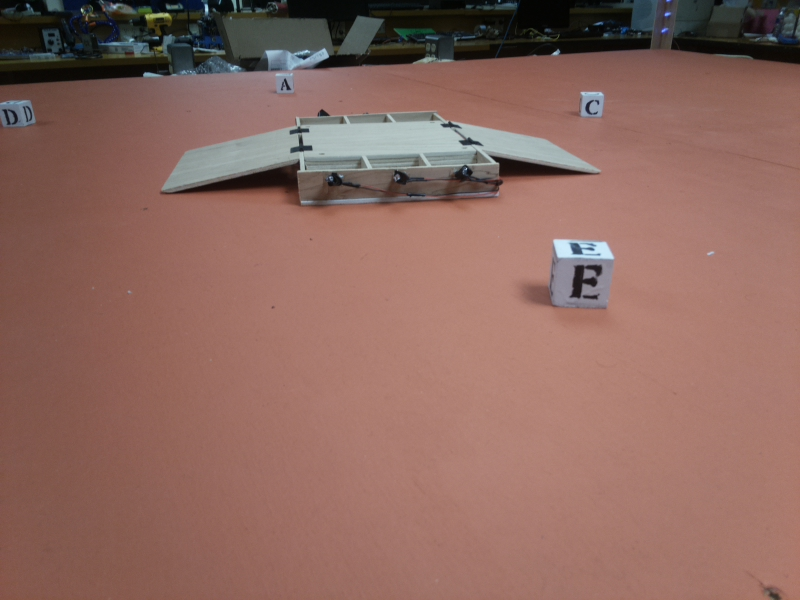blockA: (272, 70, 295, 95)
blockC: (579, 90, 606, 122)
blockD: (1, 96, 39, 127)
blockE: (550, 237, 616, 311)
corner: (647, 1, 677, 51)
side: (288, 151, 499, 210)
slope: (161, 123, 297, 197), (456, 123, 604, 180)
